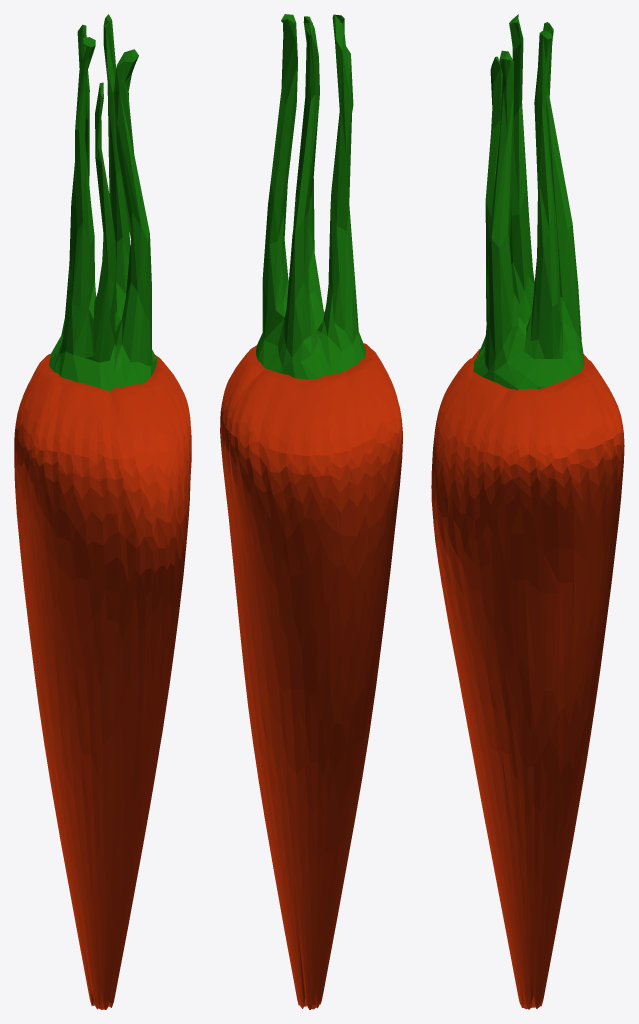
The model's file is GroundItem.obj.
3 renders of one model, left to right at view 1: azimuth 30°, elevation 25°; view 2: azimuth 150°, elevation 25°; view 3: azimuth 270°, elevation 25°, orthographic.
Visible parts, largest first — view 1: Cylinder.001, Icosphere; view 2: Cylinder.001, Icosphere; view 3: Cylinder.001, Icosphere.
Part boxes in pixels (x1,y1,x2,y2): Cylinder.001: (14,353,191,1009); Icosphere: (49,14,156,392); Cylinder.001: (220,343,402,1009); Icosphere: (256,14,366,379); Cylinder.001: (431,348,624,1009); Icosphere: (473,14,584,389).
Size of the model in its own units: 1.01 by 5.97 by 1.06.
